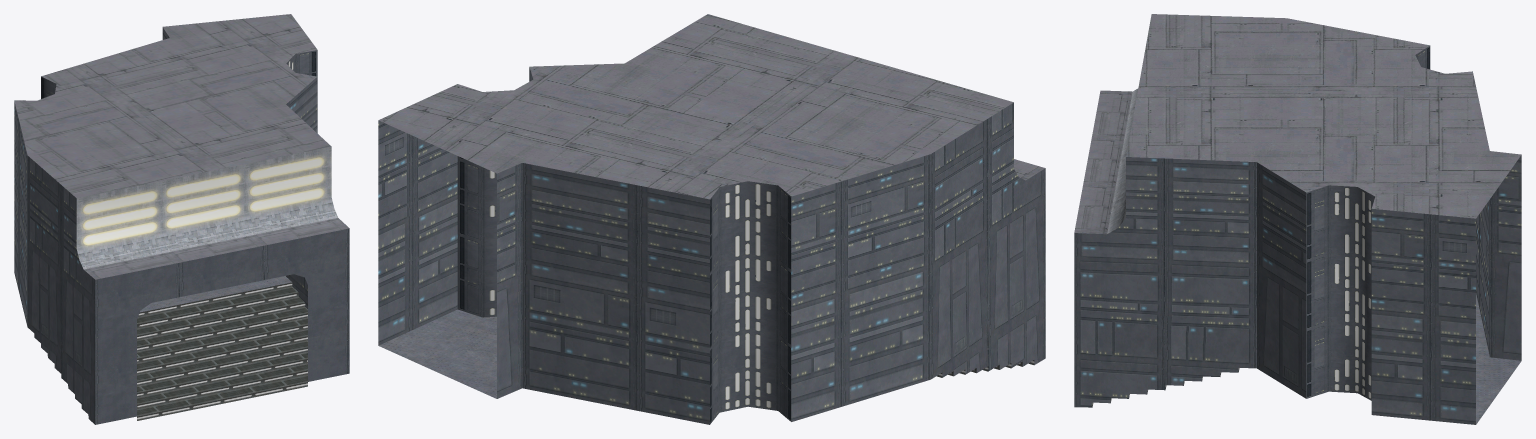
The model's file is mun_tato_starport_s01_u01_r13_arrivals2_mesh_r13.fbx.
3 views of the same model, side by side, from view 1: azimuth 30°, elevation 25°; view 2: azimuth 150°, elevation 25°; view 3: azimuth 270°, elevation 25° (orthographic). The views are drawn at different scales.
Visible parts, largest first — view 1: mesh_node; view 2: mesh_node; view 3: mesh_node.
Part boxes in pixels (x1,y1,x2,y2): mesh_node: (14, 14, 349, 424); mesh_node: (378, 14, 1045, 424); mesh_node: (1074, 14, 1521, 424).
Bounding box in the file's own units: 12.87 × 7.5 × 11.8.
